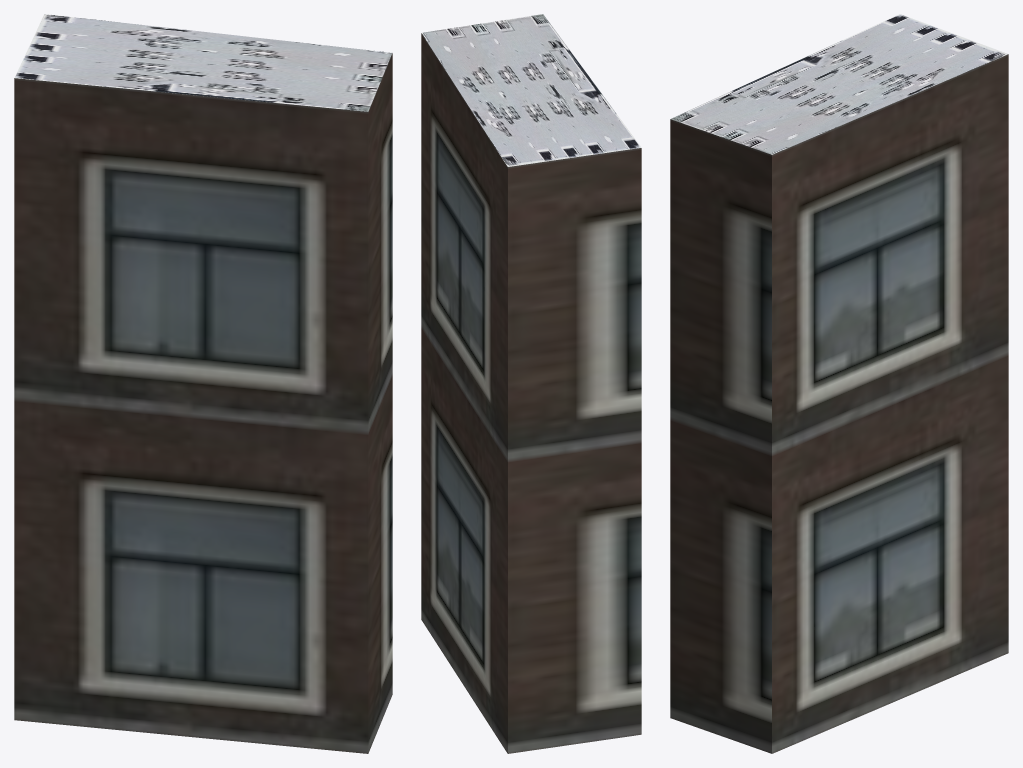
Rendered from ResTex__3399.fbx.
3 views of the same model, side by side, from view 1: azimuth 30°, elevation 25°; view 2: azimuth 150°, elevation 25°; view 3: azimuth 270°, elevation 25° (orthographic). The views are drawn at different scales.
Visible parts, largest first — view 1: CityEngineMaterial_16_m, CityEngineMaterial_15_m; view 2: CityEngineMaterial_16_m, CityEngineMaterial_15_m; view 3: CityEngineMaterial_16_m, CityEngineMaterial_15_m.
Boxes of the visible parts, x1=… form: CityEngineMaterial_16_m: x1=14, y1=53, x2=392, y2=753; CityEngineMaterial_15_m: x1=14, y1=14, x2=392, y2=111; CityEngineMaterial_16_m: x1=421, y1=33, x2=641, y2=753; CityEngineMaterial_15_m: x1=421, y1=14, x2=641, y2=166; CityEngineMaterial_16_m: x1=670, y1=54, x2=1008, y2=753; CityEngineMaterial_15_m: x1=671, y1=14, x2=1008, y2=154.
Size of the model in its own units: 3.03 by 6 by 3.07.
Materials: 2 (2 with a texture image).
